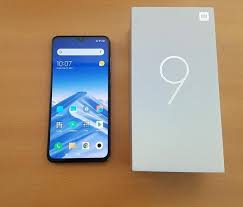mi: (43, 31, 113, 163)
